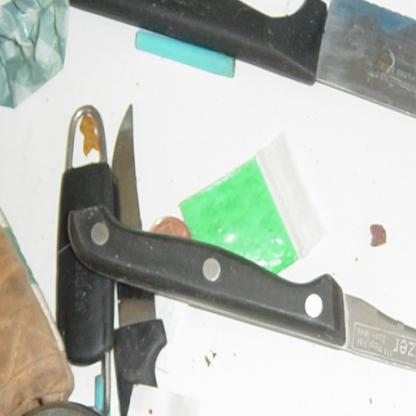knife: (63, 0, 415, 191), (65, 204, 415, 384)
